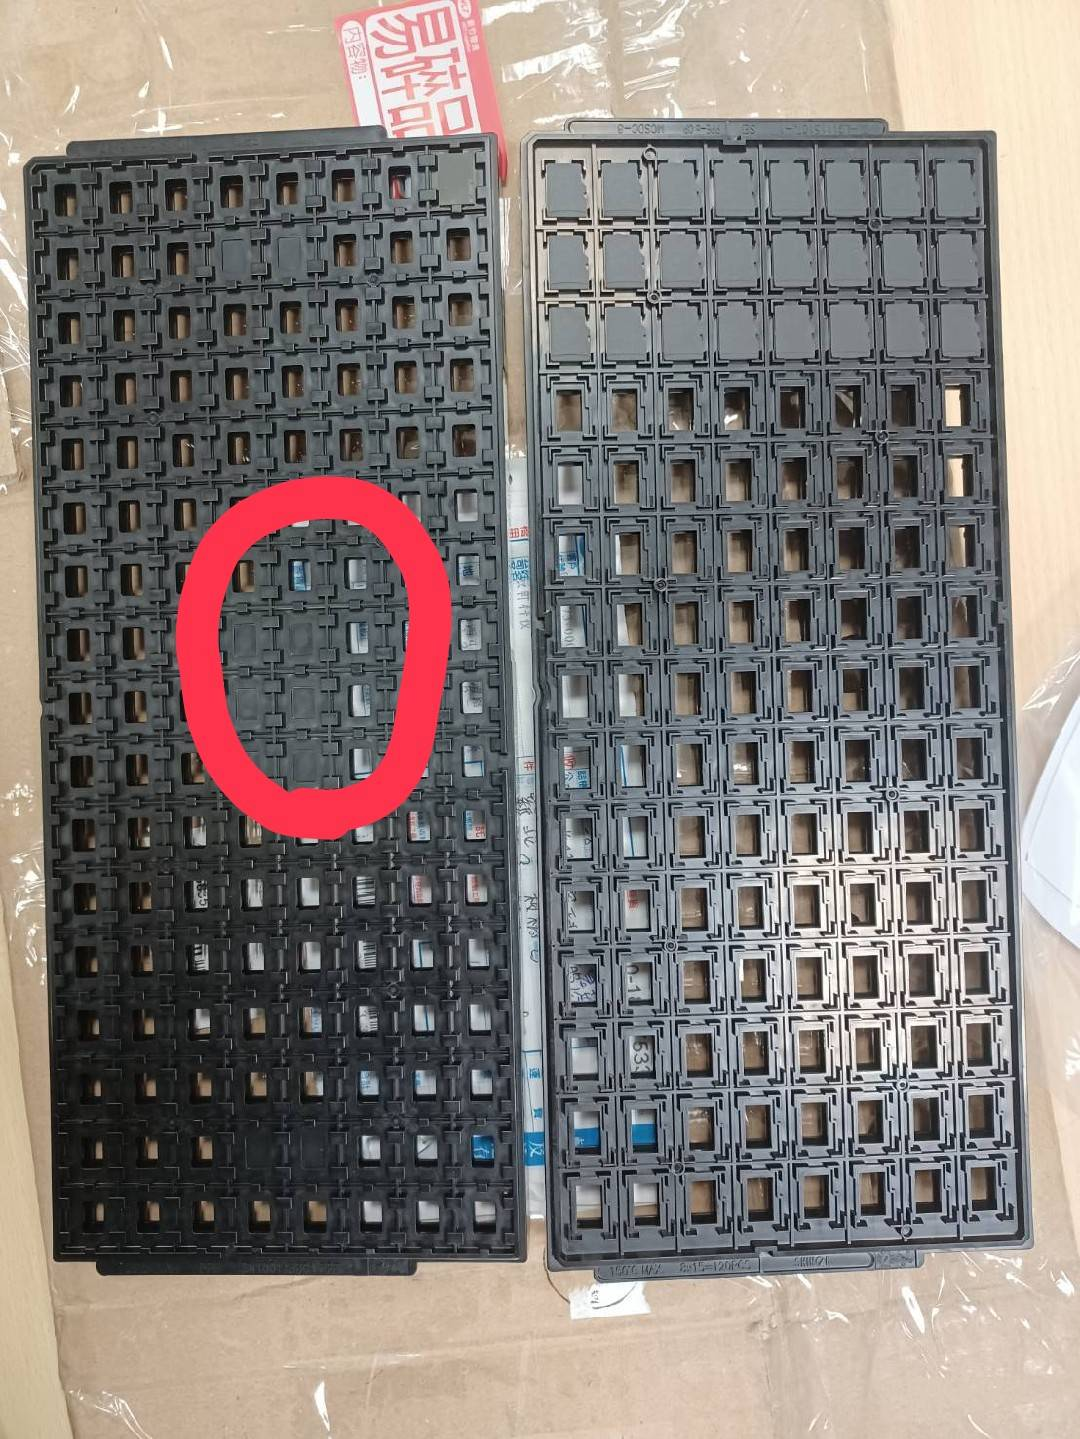chip: (711, 226, 762, 296), (539, 156, 591, 221), (263, 226, 321, 281), (428, 151, 482, 208)
nochip: (712, 366, 771, 441), (616, 946, 669, 1021), (321, 345, 378, 414), (715, 589, 771, 658)
